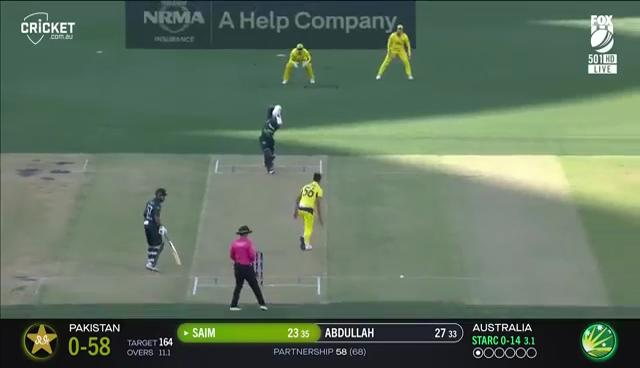ball: (392, 270, 413, 287)
